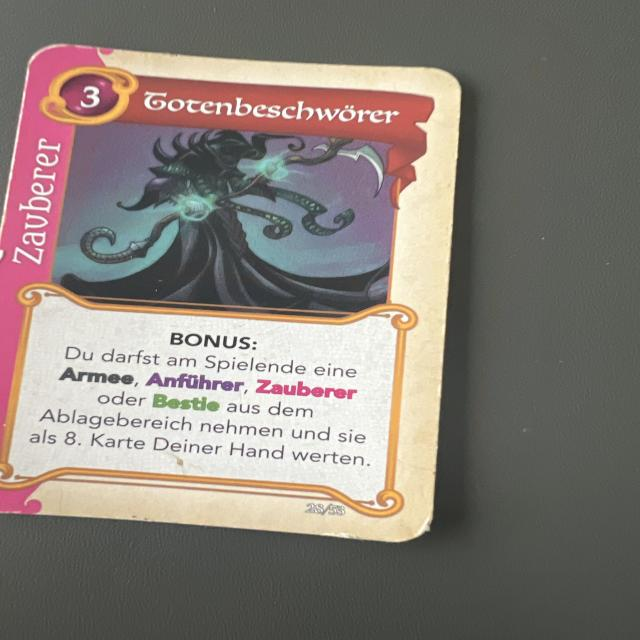Shapeshifter: (0, 47, 463, 555)
